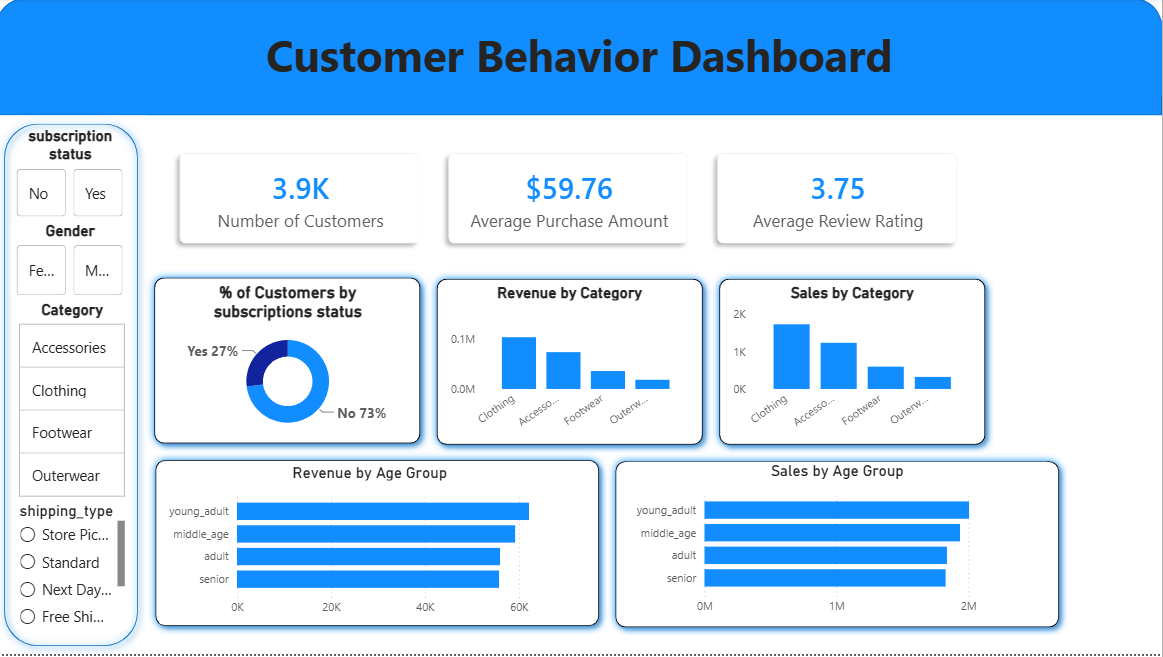

Layout of this report page (visuals, bound fields, positions):
{"tool":"powerbi","page":{"name":"Page 1","canvas":[1280,720],"ordinal":0},"visuals":[{"type":"cardVisual","fields":{"Data":["public customer.Number of Customers","public customer.Average Purchase Amount","public customer.Average Review Rating"]},"box":[172.9,141.3,913.9,157.8],"z":0},{"type":"shape","box":[0,0,1280.3,129],"z":1000},{"type":"textbox","box":[0,24.7,1280.3,82.3],"z":2000},{"type":"shape","box":[164.7,297.8,310.1,200.3],"z":3000},{"type":"donutChart","title":"% of Customers by subscriptions status","fields":{"Category":["public customer.subscription_status"],"Y":["CountNonNull(public customer.customer_id)"]},"box":[182.5,312.9,275.8,171.5],"z":4000},{"type":"shape","box":[474.8,299.1,310.1,200.3],"z":5000},{"type":"shape","box":[784.9,299.1,310.1,200.3],"z":6000},{"type":"clusteredColumnChart","title":"Revenue by Category","fields":{"Y":["Sum(public customer.purchase_amount)"],"Category":["public customer.category"]},"box":[494,312.9,271.7,171.5],"z":7000},{"type":"clusteredColumnChart","title":"Sales by Category","fields":{"Y":["CountNonNull(public customer.customer_id)"],"Category":["public customer.category"]},"box":[804.1,312.9,271.7,171.5],"z":8000},{"type":"shape","box":[0,129,164.7,591.4],"z":9000},{"type":"advancedSlicerVisual","title":"subscription status","fields":{"Values":["public customer.subscription_status"]},"box":[17.8,141.3,127.6,104.3],"z":10000},{"type":"advancedSlicerVisual","title":"Gender","fields":{"Values":["public customer.gender"]},"box":[17.8,245.6,127.6,86.4],"z":11000},{"type":"advancedSlicerVisual","title":"Category","fields":{"Values":["public customer.category"]},"box":[20.6,332.1,126.2,220.9],"z":11001},{"type":"listSlicer","fields":{"Values":["public customer.shipping_type"]},"box":[20.6,553,126.2,140],"z":11002},{"type":"shape","box":[166,498.1,505,200.3],"z":11004},{"type":"clusteredBarChart","title":"Revenue by Age Group","fields":{"Y":["Sum(public customer.purchase_amount)"],"Category":["public customer.age_group"]},"box":[179.8,510.5,461.1,177],"z":11005},{"type":"shape","box":[671,499.5,505,200.3],"z":11006},{"type":"clusteredBarChart","title":"Sales by Age Group","fields":{"Y":["Sum(public customer.customer_id)"],"Category":["public customer.age_group"]},"box":[693,509.1,461.1,177],"z":11007}]}

Visuals, with their boxes in screenshot pixels (x1, y1, x2, y2), scaled from the page's 1280x720 canvas onto the 1163x657 screenshot:
cardVisual - public customer.Number of Customers x public customer.Average Purchase Amount: (157, 129, 987, 273)
shape: (0, 0, 1162, 118)
textbox: (0, 23, 1162, 98)
shape: (150, 272, 431, 455)
"% of Customers by subscriptions status" donutChart: (166, 286, 416, 442)
shape: (431, 273, 713, 456)
shape: (713, 273, 995, 456)
"Revenue by Category" clusteredColumnChart: (449, 286, 696, 442)
"Sales by Category" clusteredColumnChart: (731, 286, 977, 442)
shape: (0, 118, 150, 656)
"subscription status" advancedSlicerVisual: (16, 129, 132, 224)
"Gender" advancedSlicerVisual: (16, 224, 132, 303)
"Category" advancedSlicerVisual: (19, 303, 133, 505)
listSlicer - public customer.shipping_type: (19, 505, 133, 632)
shape: (151, 455, 610, 637)
"Revenue by Age Group" clusteredBarChart: (163, 466, 582, 627)
shape: (610, 456, 1069, 639)
"Sales by Age Group" clusteredBarChart: (630, 465, 1049, 626)
